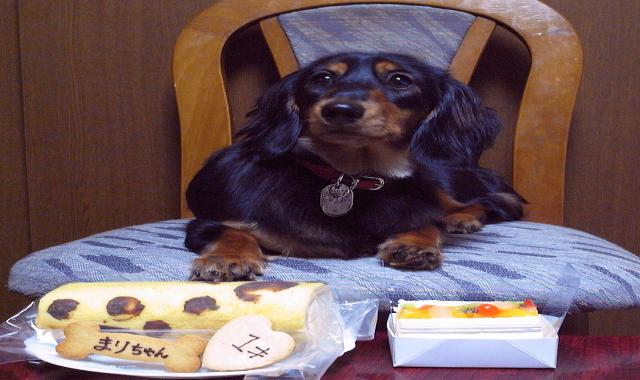dog: (203, 47, 545, 277)
